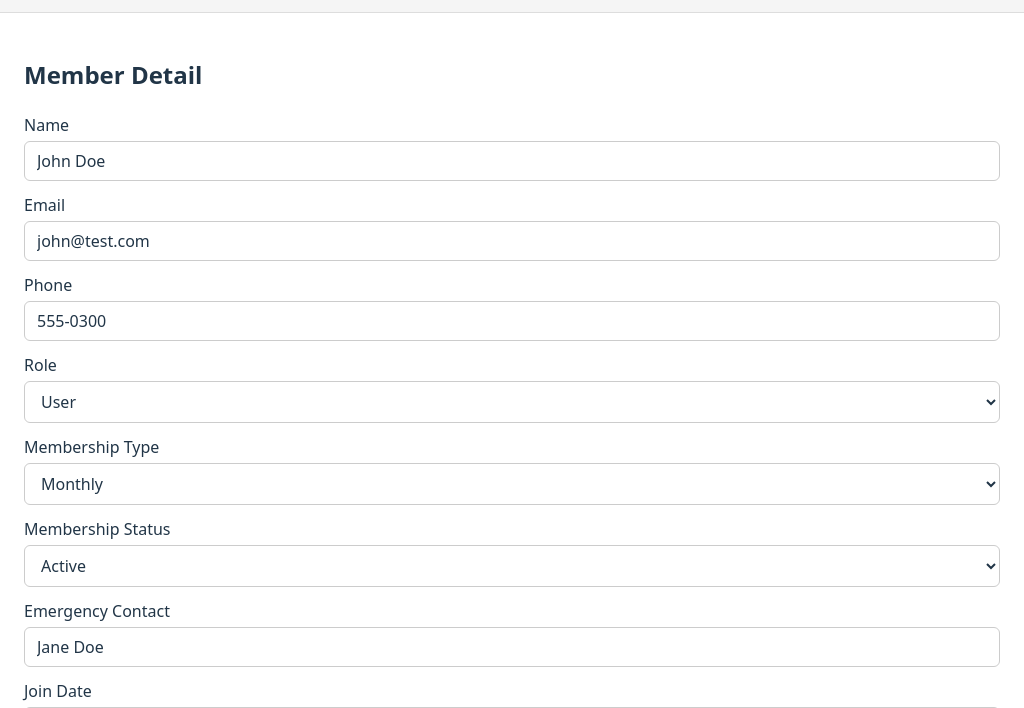
it: MemberDetailPage › admin can save changes
The image size is (1024, 708).
Replace the text in the field labelled "Name" with "John Updated". click: [512, 161]
box: top-left (24, 141), bottom-right (1000, 181)
(page scrolled)
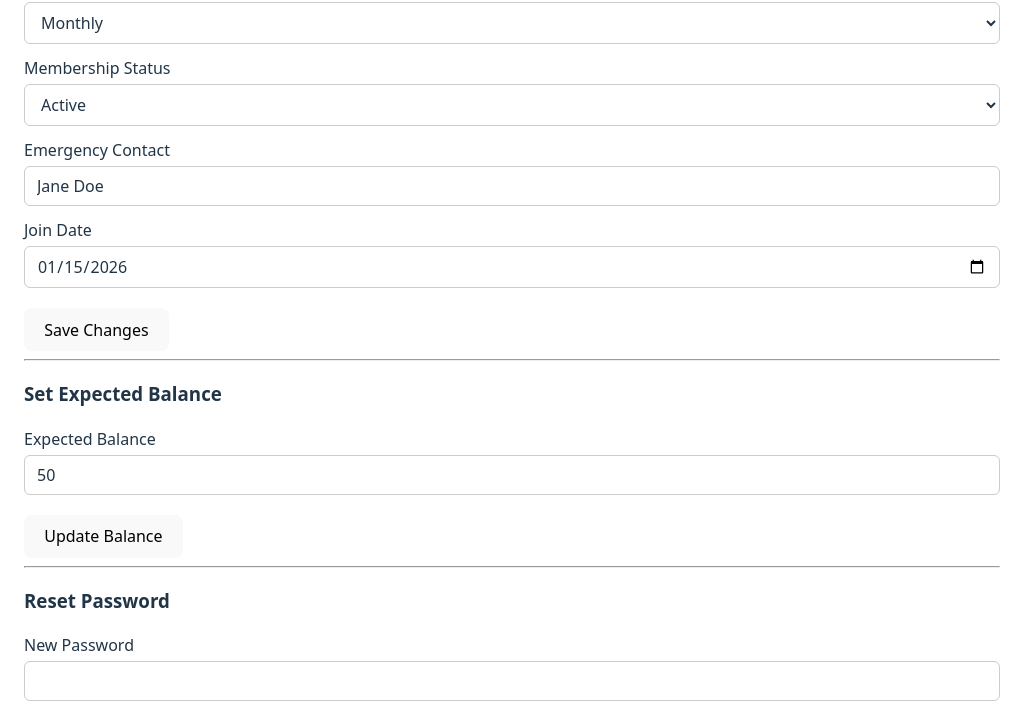
Click the button "Save Changes". click: [96, 330]
box: top-left (24, 308), bottom-right (169, 351)
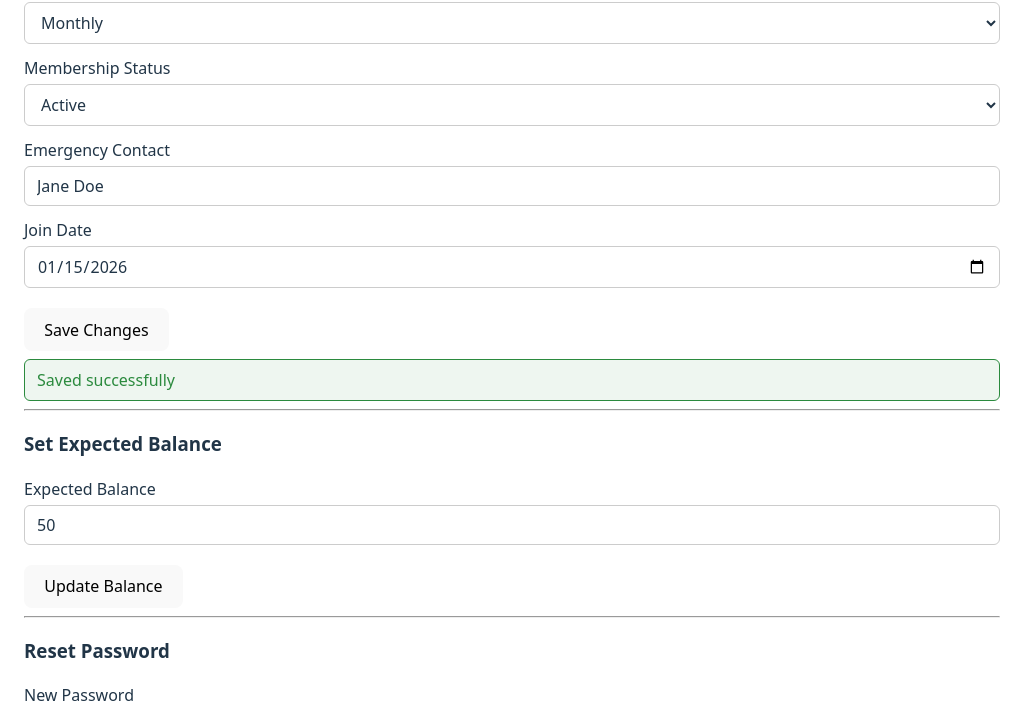
Expected: the message reads "Saved successfully", top-left (37, 369), bottom-right (175, 391)
